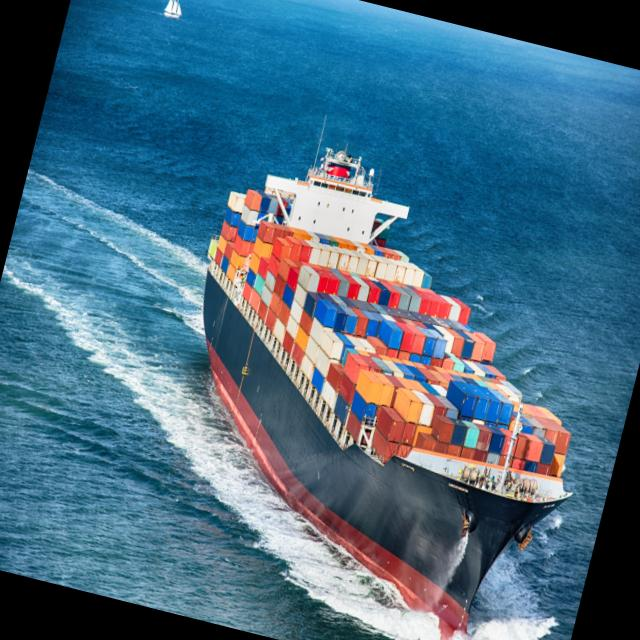boat: (107, 79, 640, 640)
